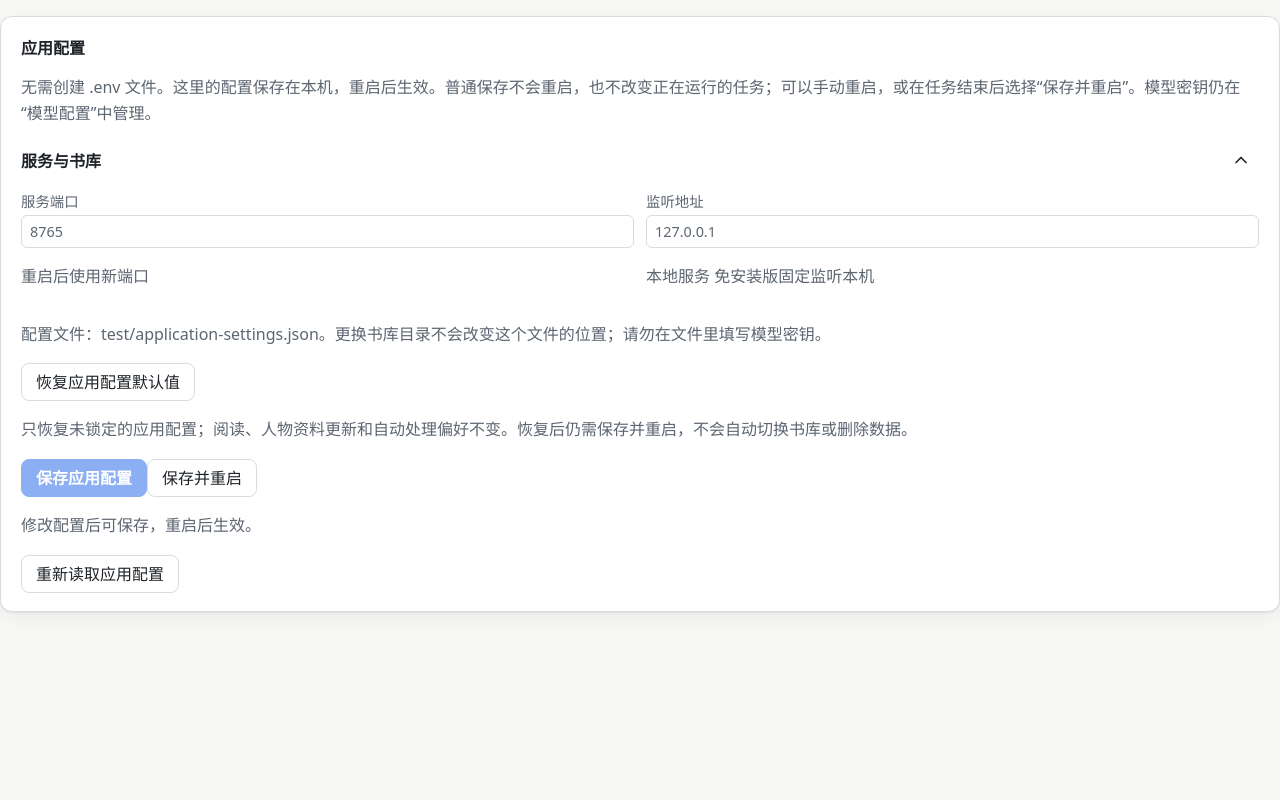
Test: 保存并重启需要确认，服务拒绝时保留草稿和具体原因
Step 1. Replace the text in the number field labelled "服务端口" with "8800" → [328, 232], box [21, 215, 634, 248]
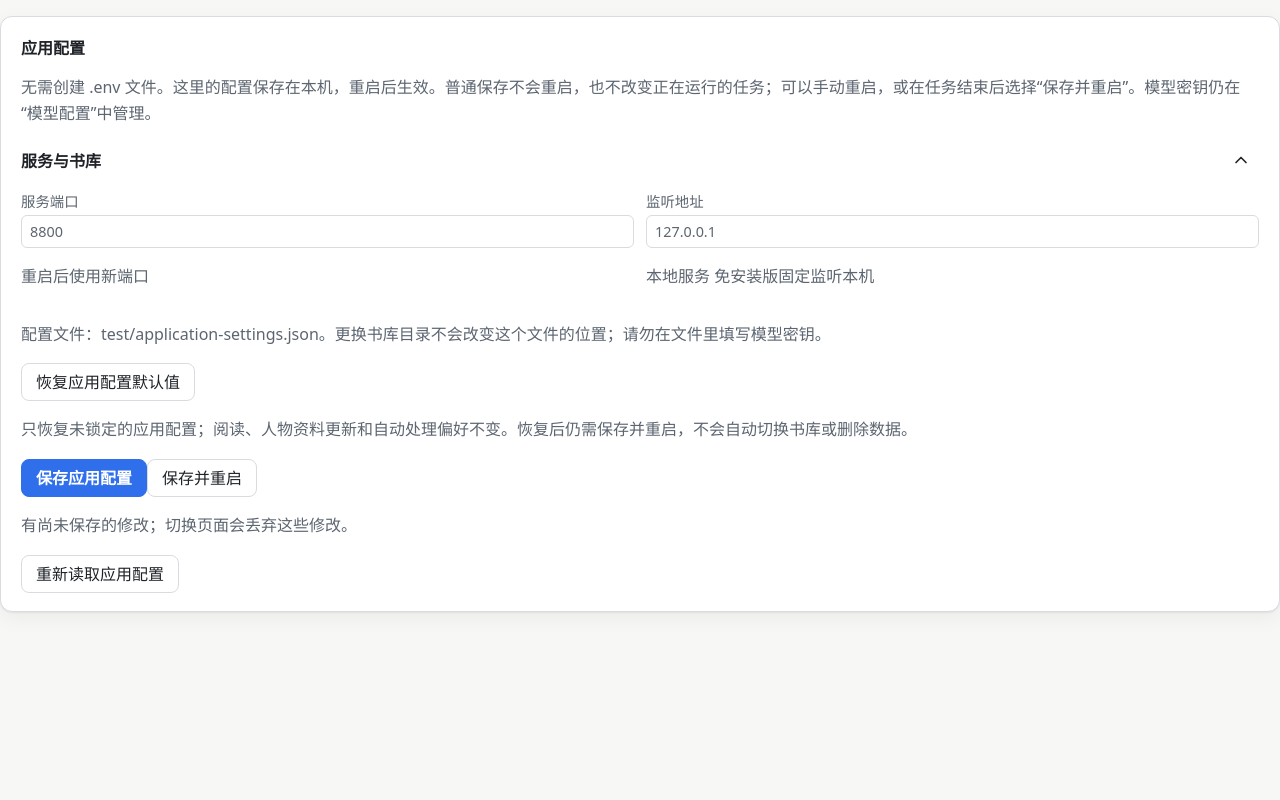
Step 2. Click the button "保存并重启" → [202, 478], box [147, 459, 257, 497]
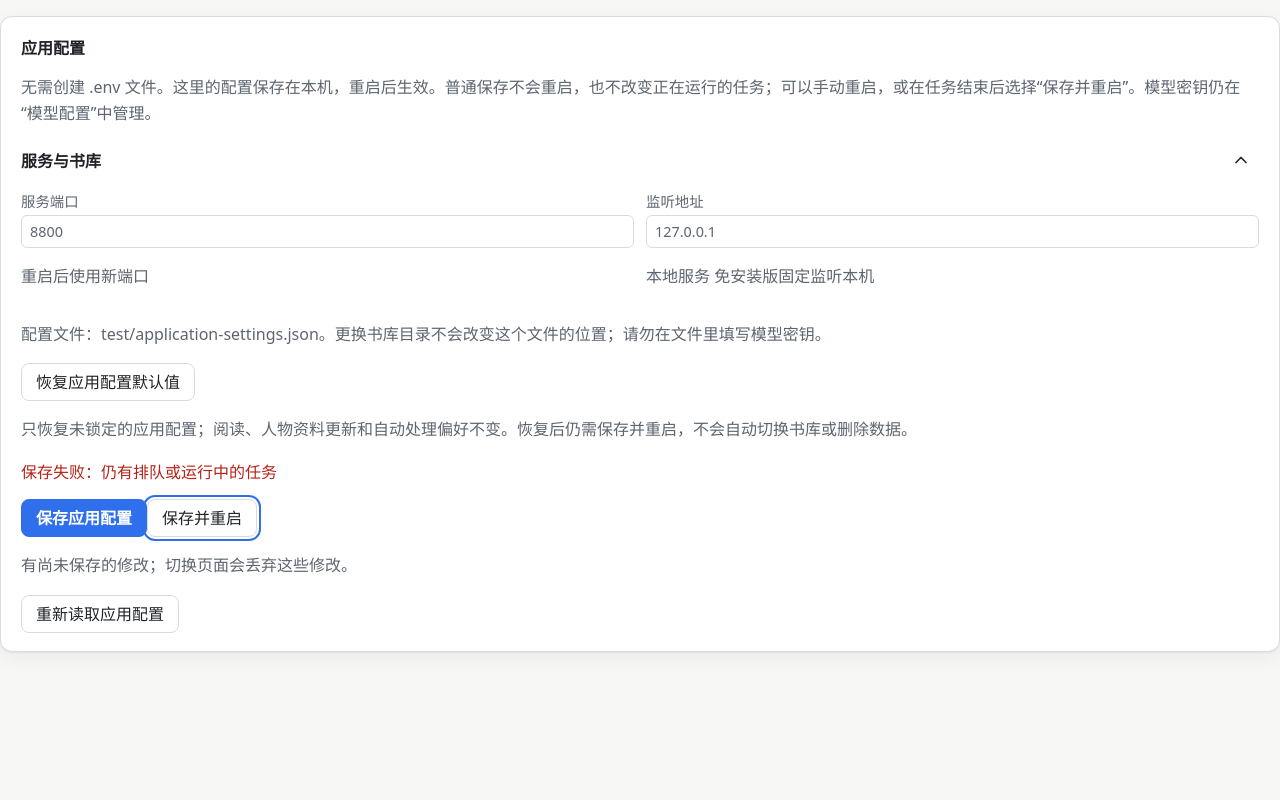
Now the message shows "仍有排队或运行中的任务", box [101, 461, 277, 483]
